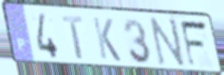3: (122, 17, 153, 65)
4: (36, 11, 61, 60)
F: (178, 19, 210, 70)
K: (91, 16, 123, 64)
N: (149, 17, 187, 71)
T: (60, 15, 85, 61)
